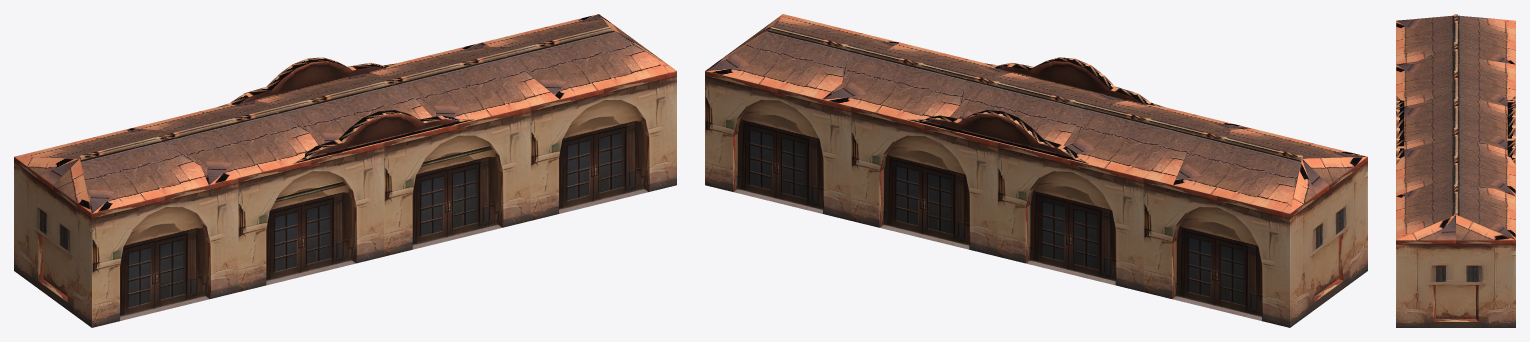
File: LM_HollywoodHotel_CourtWall.fbx
3 views of the same model, side by side, from view 1: azimuth 30°, elevation 25°; view 2: azimuth 150°, elevation 25°; view 3: azimuth 270°, elevation 25° (orthographic). The views are drawn at different scales.
Parts seen in each view (by area): view 1: LM_HollywoodHotel_CourtWall; view 2: LM_HollywoodHotel_CourtWall; view 3: LM_HollywoodHotel_CourtWall.
Boxes of the visible parts, box(x1,y1,x2,y2) form: LM_HollywoodHotel_CourtWall: box(14, 14, 676, 327); LM_HollywoodHotel_CourtWall: box(705, 14, 1367, 327); LM_HollywoodHotel_CourtWall: box(1396, 14, 1515, 327).
Bounding box in the file's own units: 26 × 6 × 6.
1 material, 1 textured.
